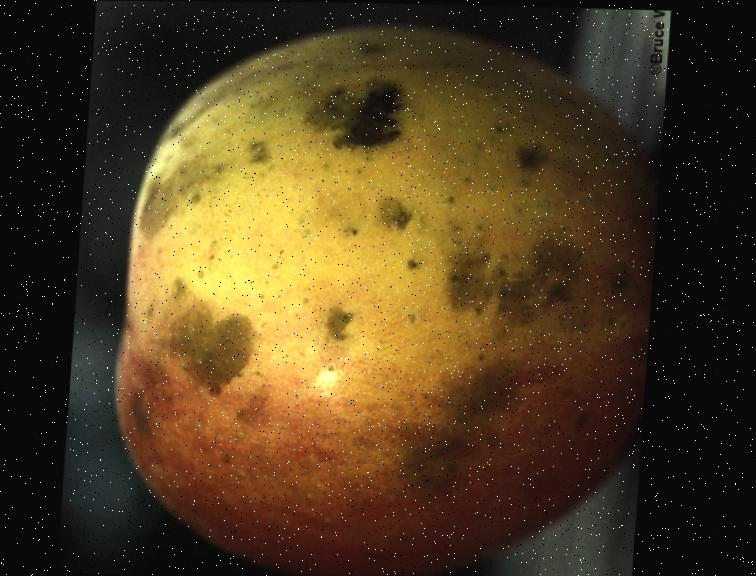BLOTCH: (74, 1, 671, 576)
